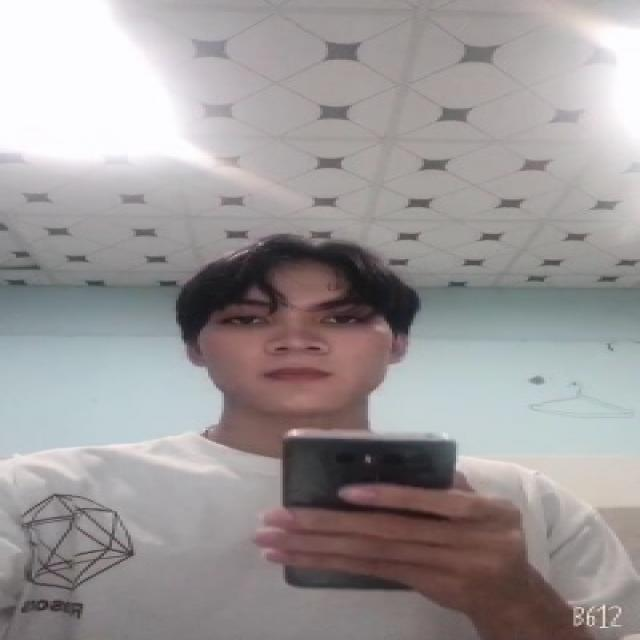Phone: (278, 426, 460, 594)
